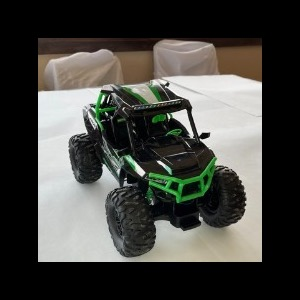polaris: (67, 77, 249, 257)
